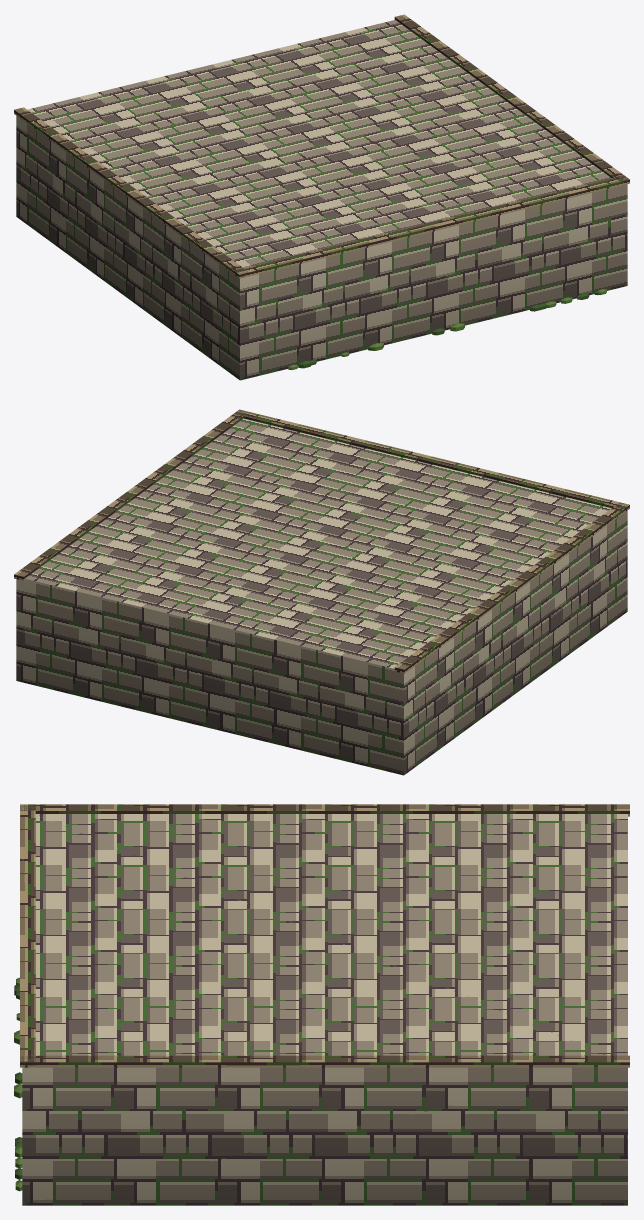
The model's file is scene_wall_s.glb.
3 renders of one model, top to bottom at view 1: azimuth 30°, elevation 25°; view 2: azimuth 150°, elevation 25°; view 3: azimuth 270°, elevation 25°, orthographic. The views are drawn at different scales.
Parts seen in each view (by area): view 1: scene_wall_s; view 2: scene_wall_s; view 3: scene_wall_s.
Boxes of the visible parts, x1,y1,x2,y2 form: scene_wall_s: (14,14,629,380); scene_wall_s: (14,409,629,775); scene_wall_s: (14,804,629,1205).
Size of the model in its own units: 14.1 by 3.77 by 14.24.
2 materials, 1 textured.
